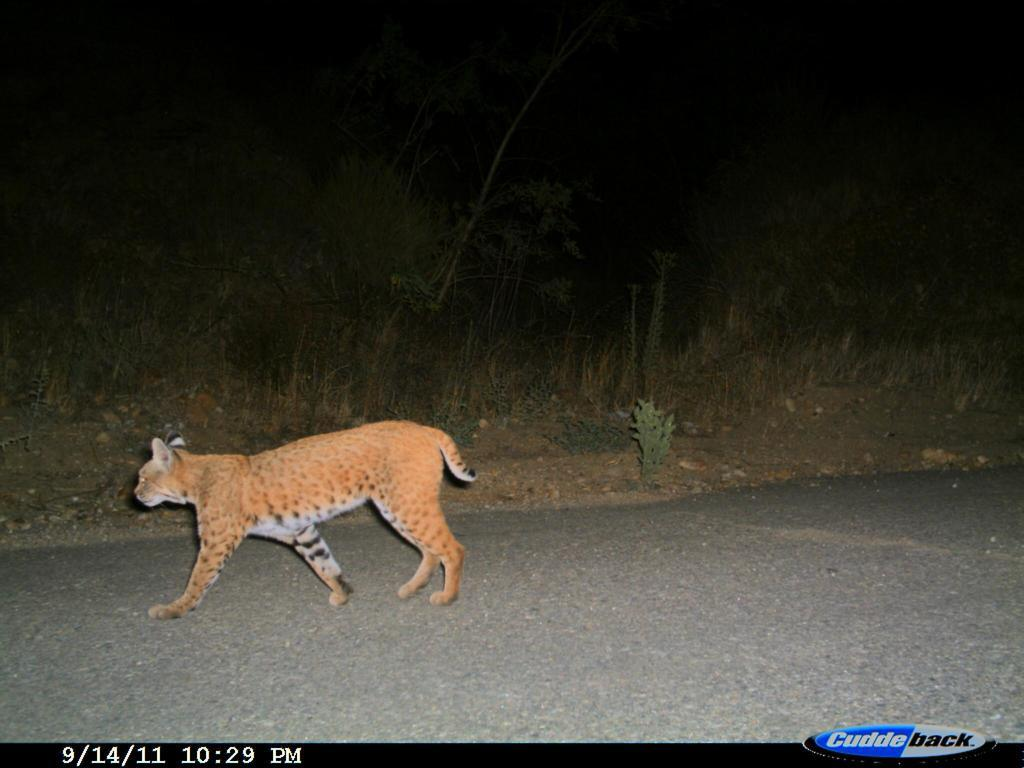bobcat: (118, 413, 498, 633)
